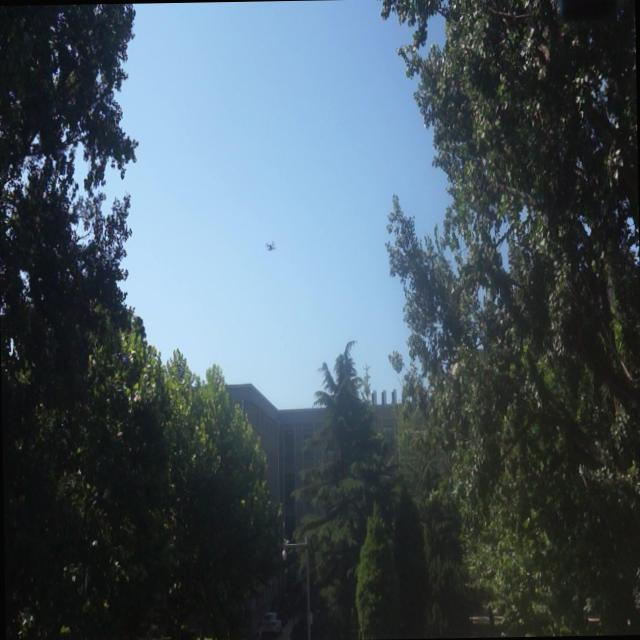drone: (262, 238, 278, 254)
